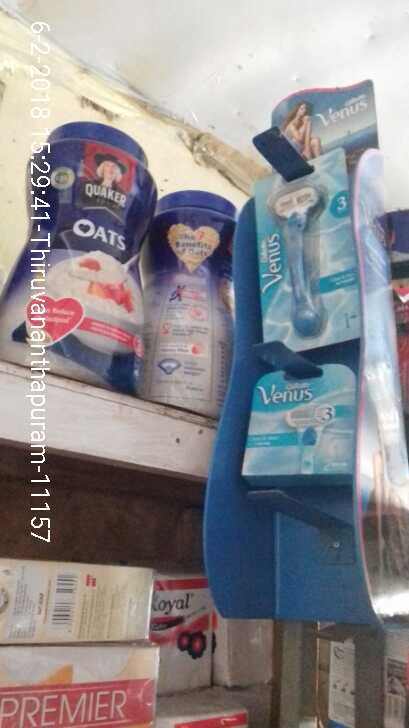venus: (246, 151, 371, 344), (237, 364, 362, 486)
